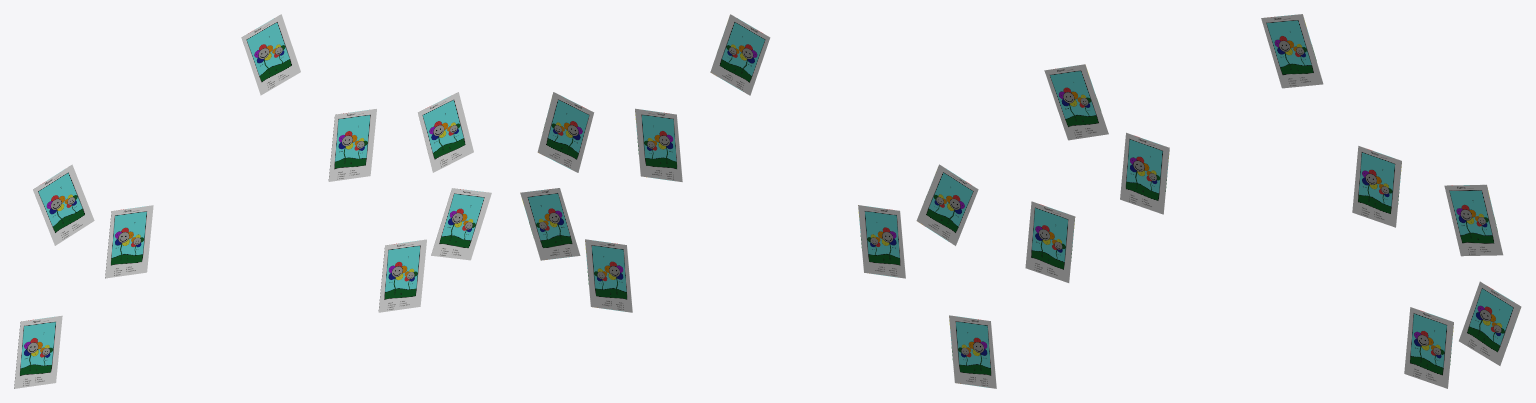
Rendered from Colored Papers.fbx.
3 views of the same model, side by side, from view 1: azimuth 30°, elevation 25°; view 2: azimuth 150°, elevation 25°; view 3: azimuth 330°, elevation 25° (orthographic). The views are drawn at different scales.
Parts seen in each view (by area): view 1: ExtraPaper19, ExtraPaper17, ExtraPaper21, ExtraPaper20, ExtraPaper23, ExtraPaper18, ExtraPaper24, ExtraPaper22; view 2: ExtraPaper23, ExtraPaper20, ExtraPaper17, ExtraPaper21, ExtraPaper19, ExtraPaper18, ExtraPaper24, ExtraPaper22; view 3: ExtraPaper18, ExtraPaper22, ExtraPaper17, ExtraPaper21, ExtraPaper20, ExtraPaper23, ExtraPaper24, ExtraPaper19.
Boxes of the visible parts, x1=… form: ExtraPaper19: x1=431, y1=188, x2=491, y2=260; ExtraPaper17: x1=105, y1=205, x2=153, y2=278; ExtraPaper21: x1=14, y1=315, x2=62, y2=388; ExtraPaper20: x1=328, y1=108, x2=376, y2=181; ExtraPaper23: x1=378, y1=239, x2=426, y2=312; ExtraPaper18: x1=241, y1=14, x2=300, y2=95; ExtraPaper24: x1=418, y1=92, x2=473, y2=172; ExtraPaper22: x1=33, y1=164, x2=94, y2=245; ExtraPaper23: x1=585, y1=239, x2=632, y2=312; ExtraPaper20: x1=635, y1=108, x2=682, y2=182; ExtraPaper17: x1=858, y1=205, x2=905, y2=278; ExtraPaper21: x1=949, y1=315, x2=996, y2=388; ExtraPaper19: x1=520, y1=188, x2=580, y2=260; ExtraPaper18: x1=710, y1=14, x2=770, y2=95; ExtraPaper24: x1=537, y1=92, x2=594, y2=172; ExtraPaper22: x1=916, y1=164, x2=978, y2=245; ExtraPaper18: x1=1261, y1=14, x2=1323, y2=88; ExtraPaper22: x1=1044, y1=64, x2=1108, y2=140; ExtraPaper17: x1=1120, y1=132, x2=1169, y2=214; ExtraPaper21: x1=1025, y1=201, x2=1075, y2=282; ExtraPaper20: x1=1352, y1=146, x2=1401, y2=227; ExtraPaper23: x1=1404, y1=307, x2=1453, y2=388; ExtraPaper24: x1=1444, y1=184, x2=1503, y2=256; ExtraPaper19: x1=1459, y1=281, x2=1521, y2=365.
Size of the model in its own units: 5.65 by 3.69 by 0.0112.
Materials: 1 (1 with a texture image).
